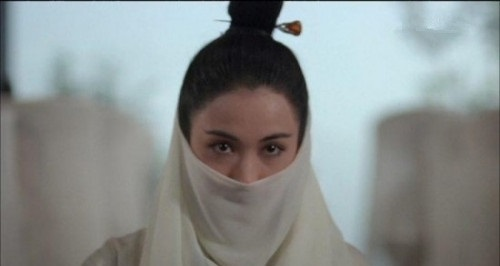face_mask: (188, 93, 303, 234)
